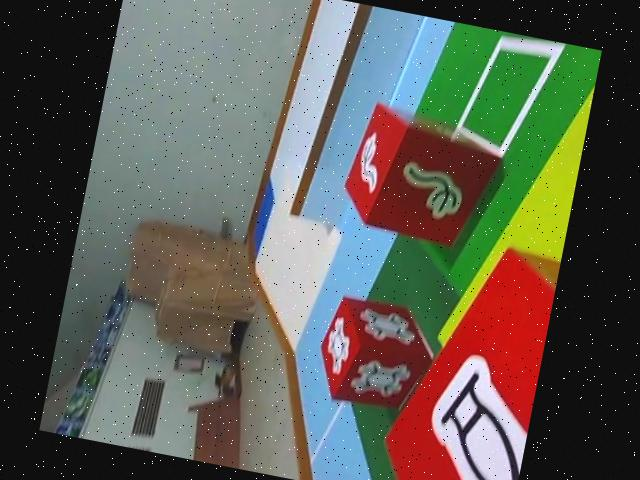R2 Real: (370, 231, 561, 480), (336, 98, 511, 251), (310, 293, 440, 416)
